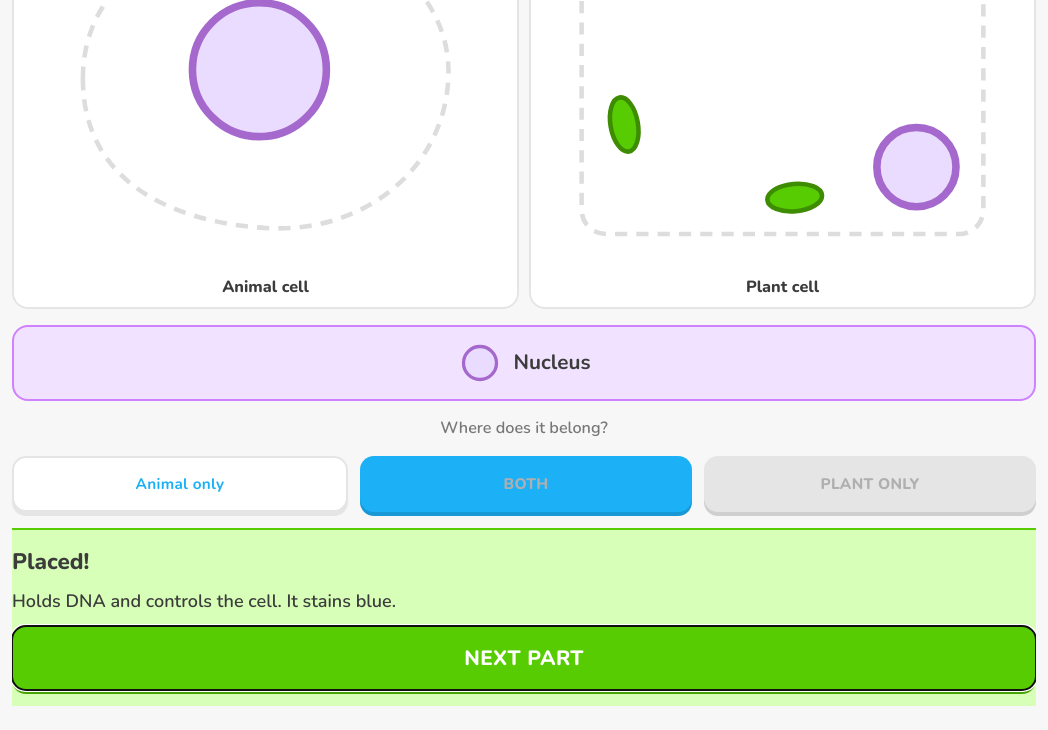
Test case: Build a cell › places every part, bounces a wrong one with a reason, and reports first tries
Earlier steps of the test are not shown.
Later steps or results of the test are not shown.
(page scrolled)
Expected: the heading "Placed!" is shown, [12, 546, 89, 576]
Click the button "Next part" at [524, 658], box [12, 626, 1036, 690]
(page scrolled)
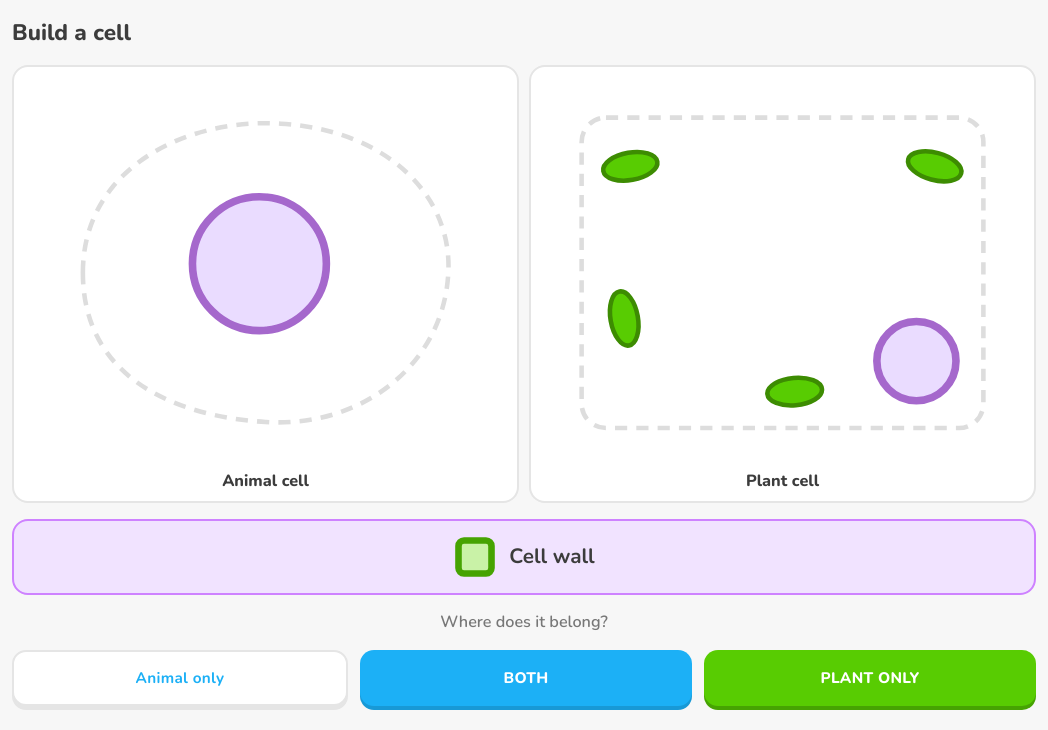
Click the button "Plant only" at [870, 678], box [704, 650, 1036, 706]
(page scrolled)
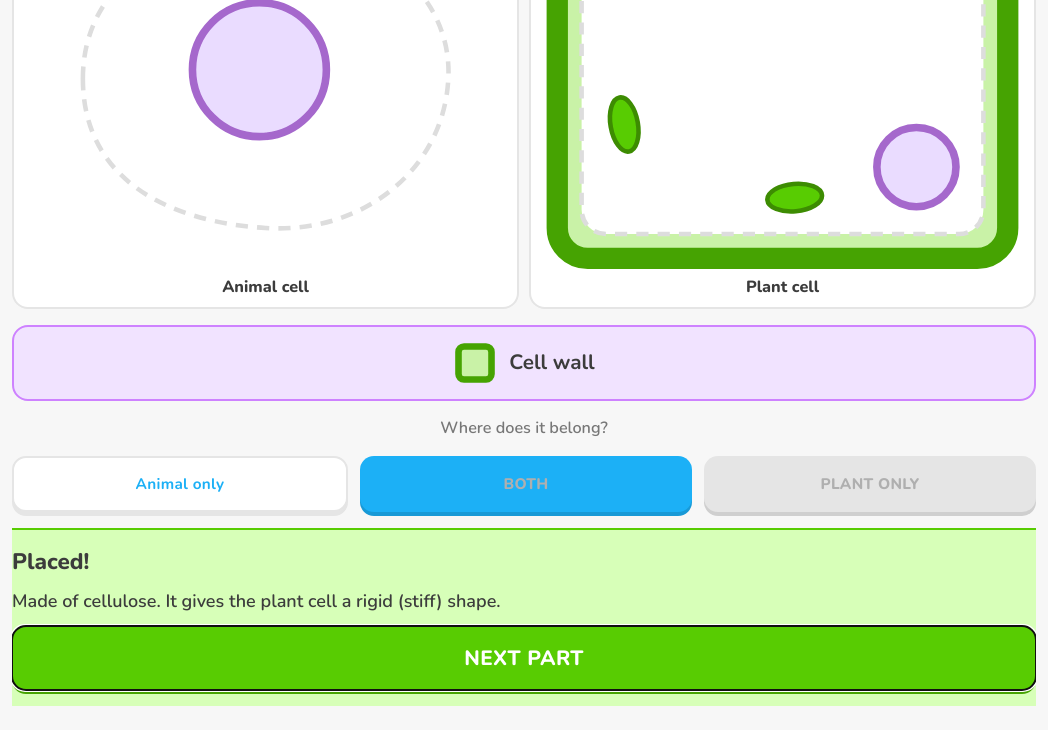
Result: the heading "Placed!" is shown at [12, 546, 89, 576]
Click the button "Next part" at [524, 658], box [12, 626, 1036, 690]
(page scrolled)
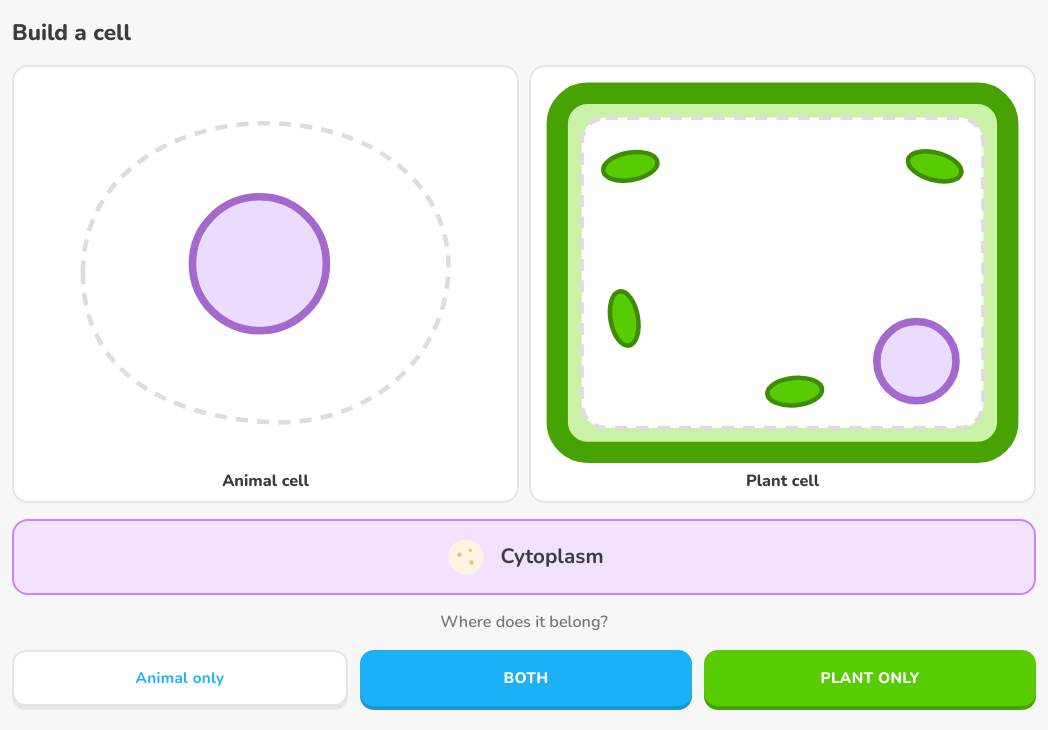
Click the button "Both" at [526, 678], box [360, 650, 692, 706]
(page scrolled)
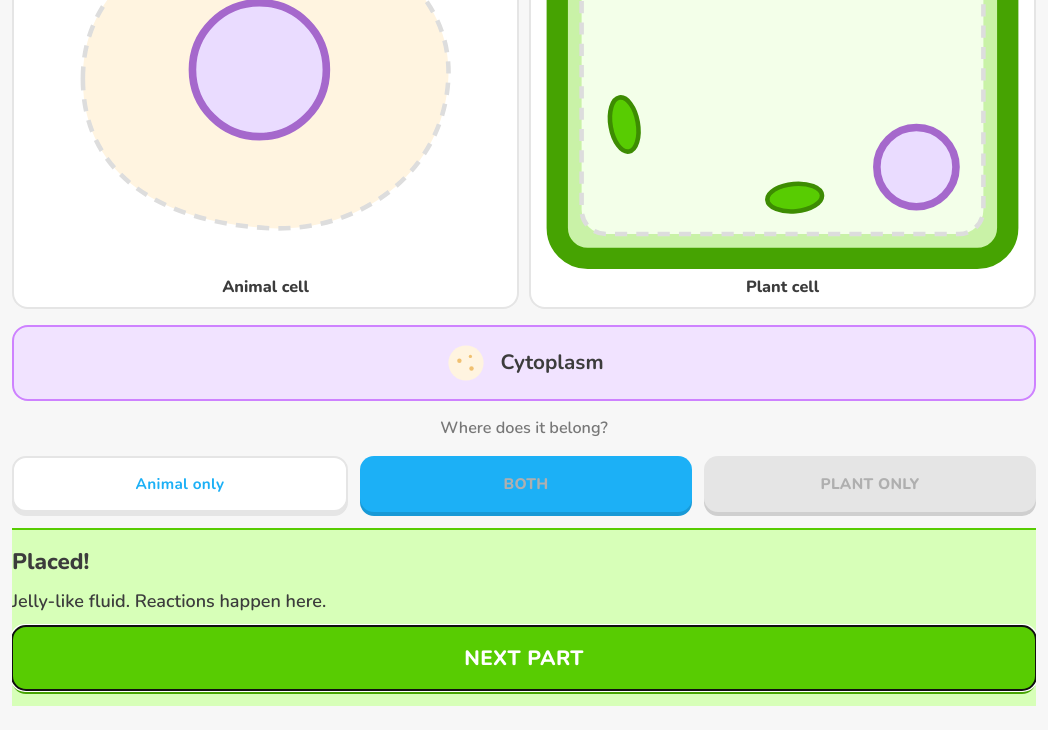
Result: the heading "Placed!" is shown at [12, 546, 89, 576]
Click the button "Next part" at [524, 658], box [12, 626, 1036, 690]
(page scrolled)
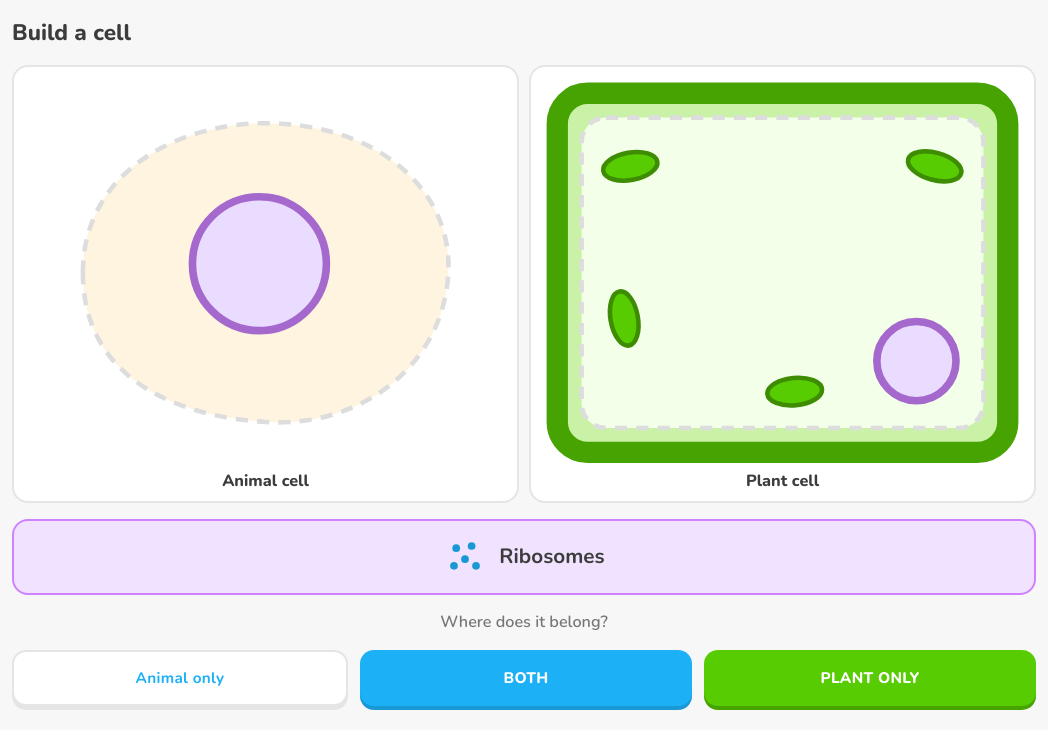
Click the button "Both" at [526, 678], box [360, 650, 692, 706]
(page scrolled)
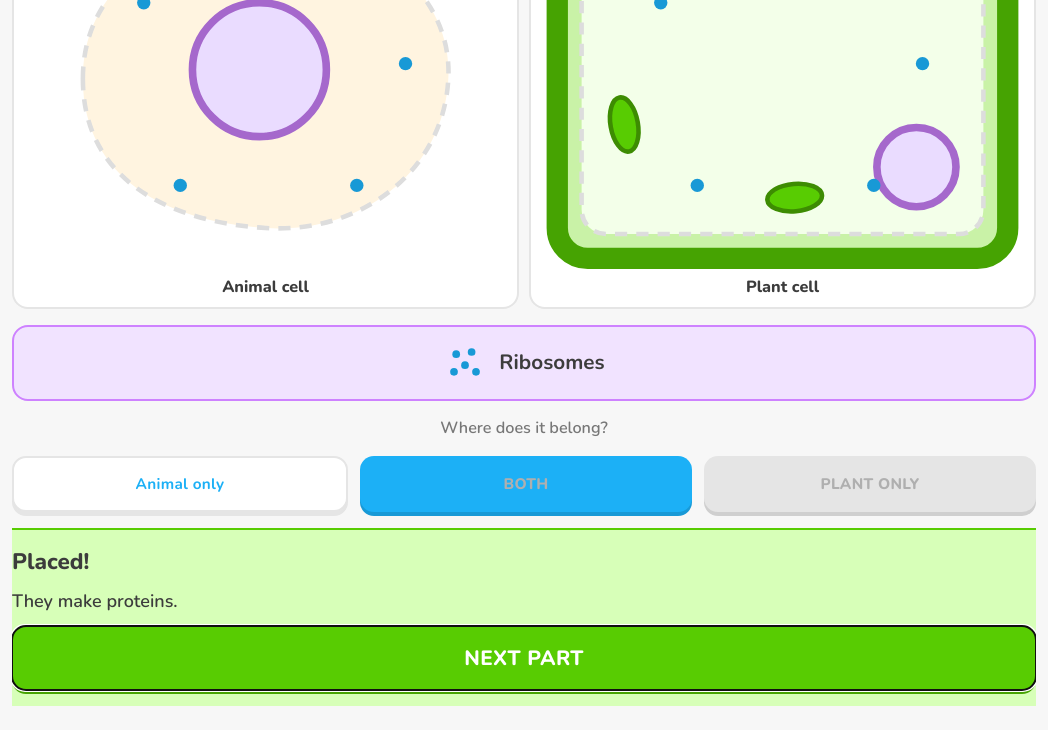
Result: the heading "Placed!" is shown at [12, 546, 89, 576]
